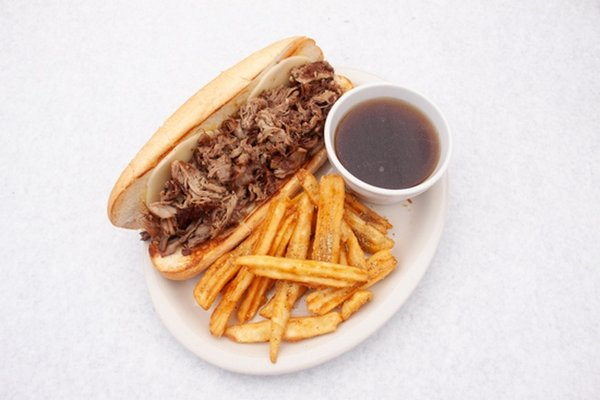soup: (107, 35, 354, 280)
sushi: (323, 80, 452, 208)
